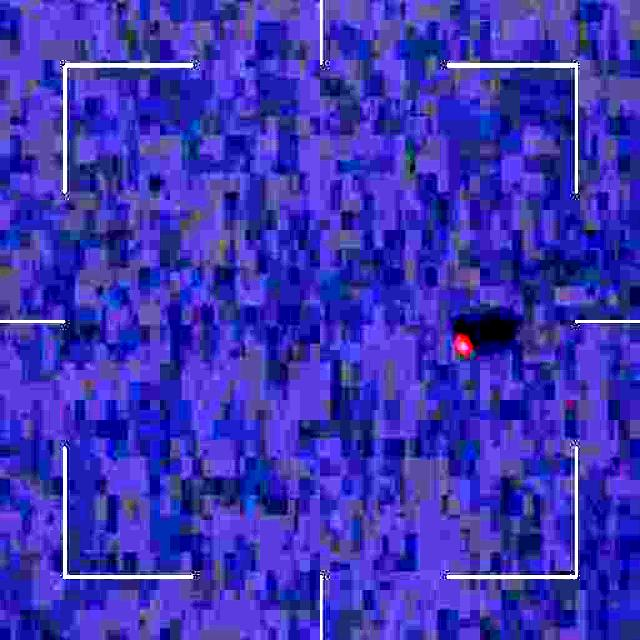bird: (452, 320, 482, 369)
